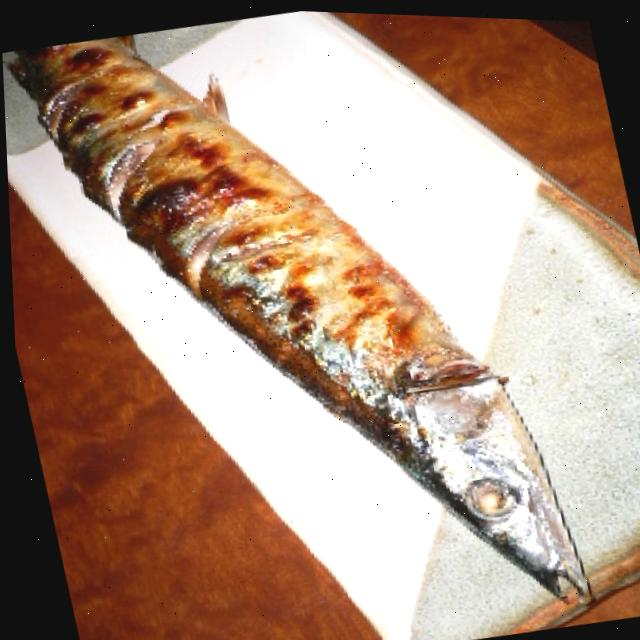熟制海鲜: (17, 0, 616, 640)
